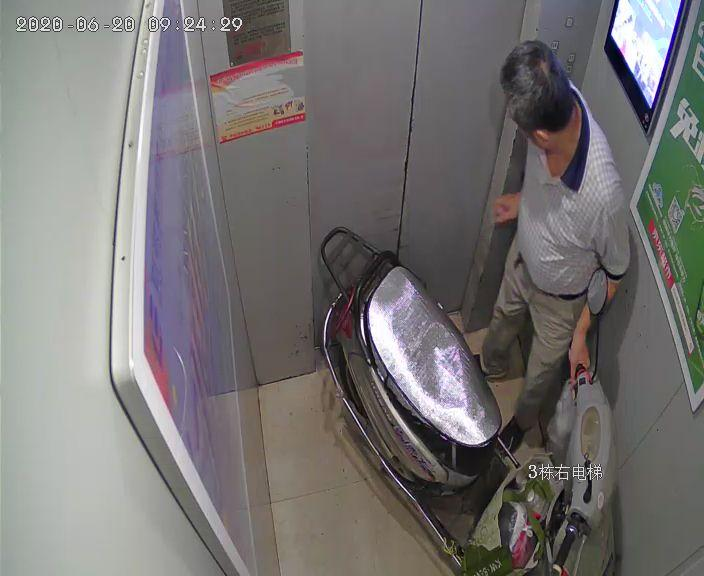Electric-bicycle: (313, 220, 618, 573)
